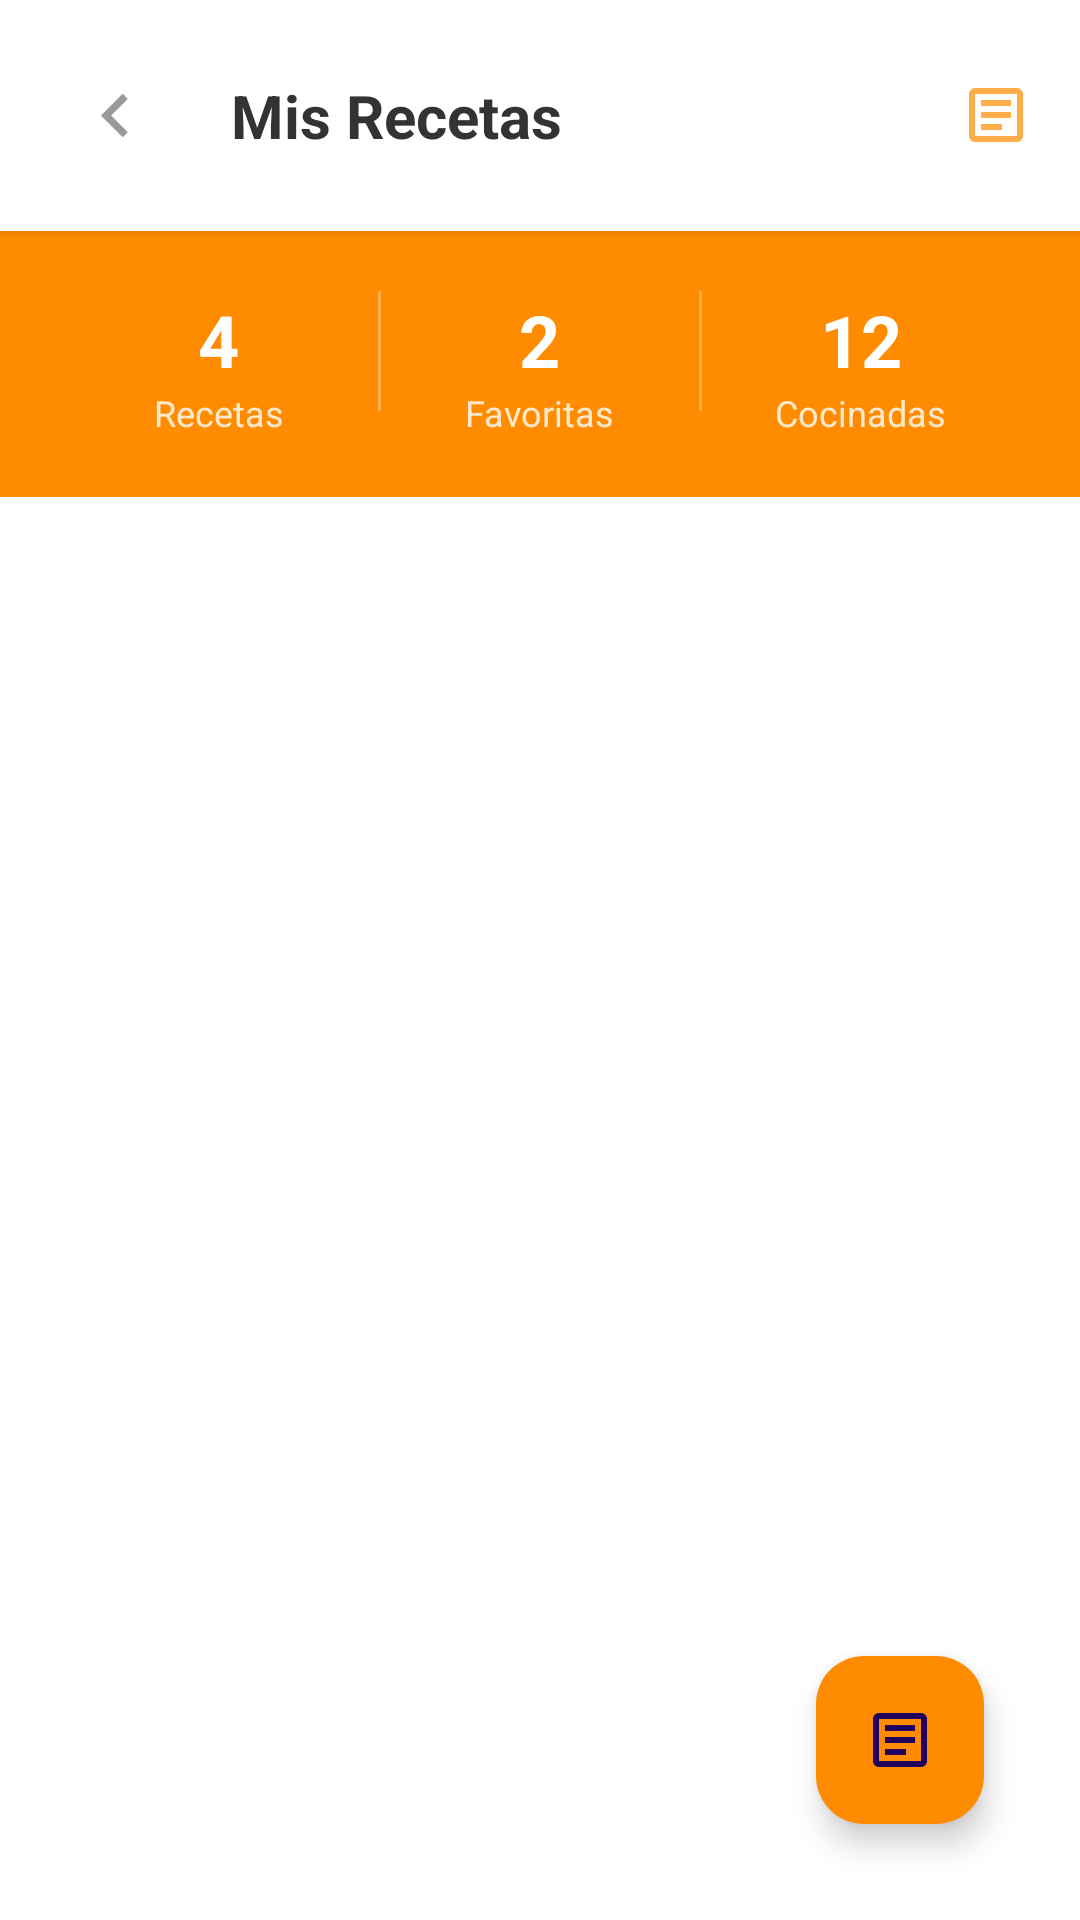

Named icons in this screenshot (1080px x 1920px) and their centers, (x,y):
recipes: (996,115)
